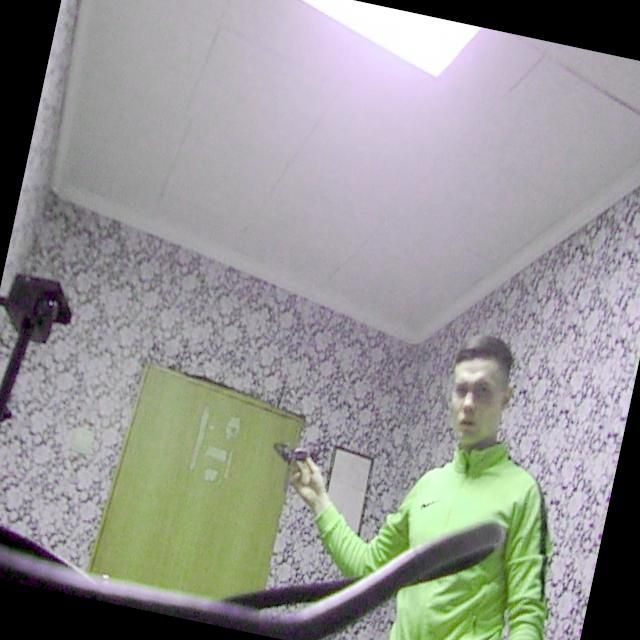drone: (266, 426, 338, 480)
